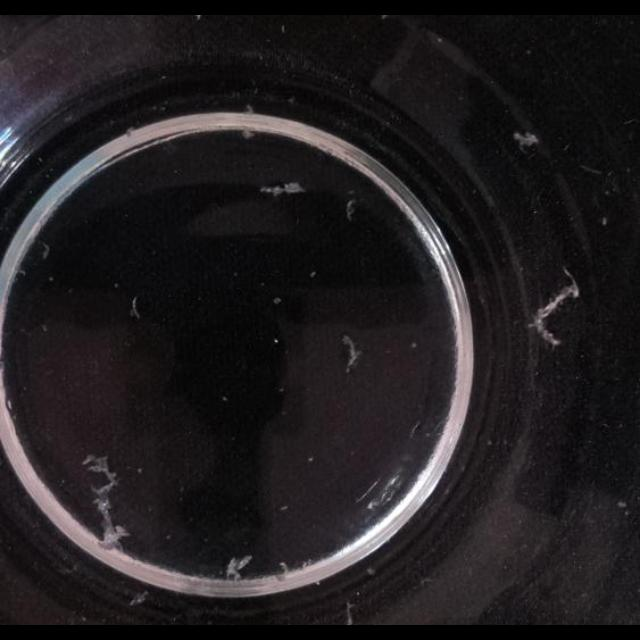Fibre: (82, 453, 132, 553), (532, 268, 578, 342), (341, 334, 363, 372), (260, 181, 306, 197), (226, 555, 252, 581), (512, 131, 538, 151), (241, 104, 257, 128), (128, 590, 148, 606), (130, 296, 142, 320), (346, 199, 358, 221), (39, 242, 50, 260), (242, 126, 256, 140), (278, 562, 288, 576)
microbeads: (617, 501, 627, 509), (306, 454, 314, 462), (273, 297, 281, 305), (278, 386, 286, 394), (280, 504, 288, 512), (310, 271, 316, 279), (222, 396, 228, 402), (274, 338, 280, 344), (138, 468, 144, 474)
